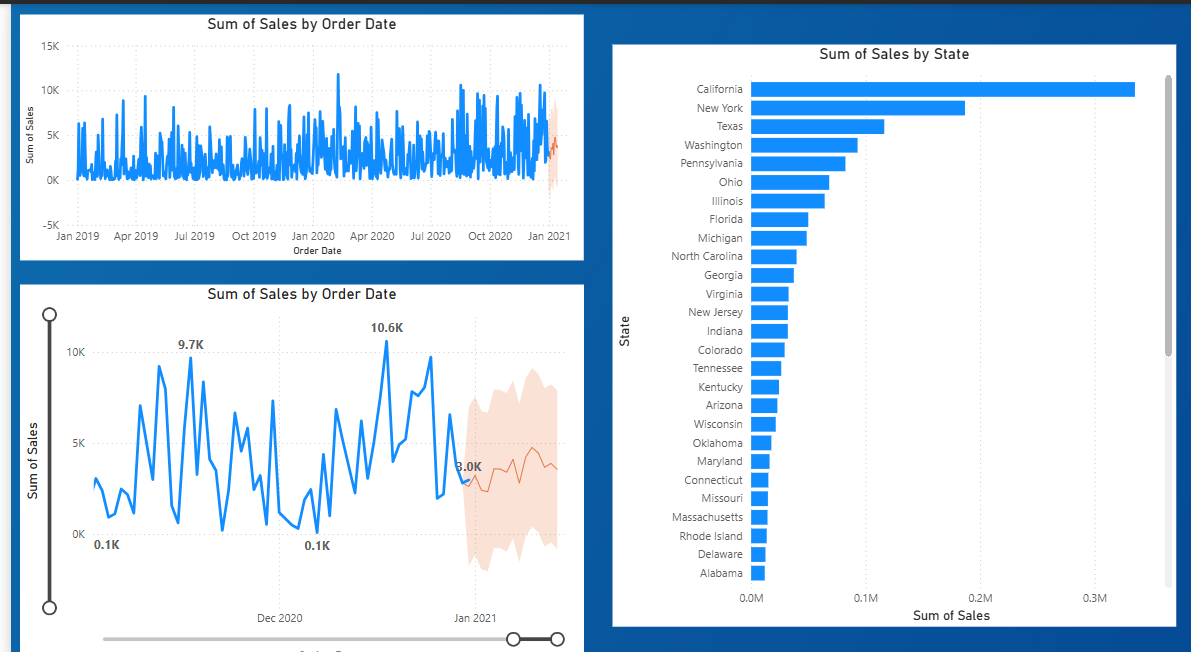

The page's visual inventory and layout, read from the dashboard file:
{"tool":"powerbi","page":{"name":"Super store sales Forecasting","canvas":[1280,720],"ordinal":1},"visuals":[{"type":"lineChart","title":" sales Forecasting 15 days Forecast","fields":{"Y":["Sum(SuperStore_Sales_Dataset (2).Sales)"],"Category":["SuperStore_Sales_Dataset (2).Order Date"]},"box":[9.8,113.9,611.6,266.8],"z":0},{"type":"lineChart","title":"sales Forecasting 15 days Forecast","fields":{"Y":["Sum(SuperStore_Sales_Dataset (2).Sales)"],"Category":["SuperStore_Sales_Dataset (2).Order Date"]},"box":[9.8,396.9,611.6,323.7],"z":1000},{"type":"clusteredBarChart","title":"Sales by State","fields":{"Category":["SuperStore_Sales_Dataset (2).State"],"Y":["Sum(SuperStore_Sales_Dataset (2).Sales)"]},"box":[652.2,113.9,611.6,561.2],"z":2000},{"type":"textbox","box":[9.8,26,896.2,73.2],"z":2001}]}

Visuals, with their boxes in screenshot pixels (x1, y1, x2, y2), scaled from the page's 1280x720 canvas onto the 1191x652 screenshot:
" sales Forecasting 15 days Forecast" lineChart: x1=9, y1=103, x2=578, y2=345
"sales Forecasting 15 days Forecast" lineChart: x1=9, y1=359, x2=578, y2=651
"Sales by State" clusteredBarChart: x1=607, y1=103, x2=1176, y2=611
textbox: x1=9, y1=24, x2=843, y2=90
